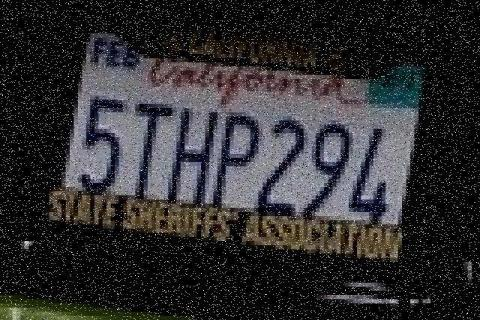LicensePlate: (16, 4, 462, 292)
